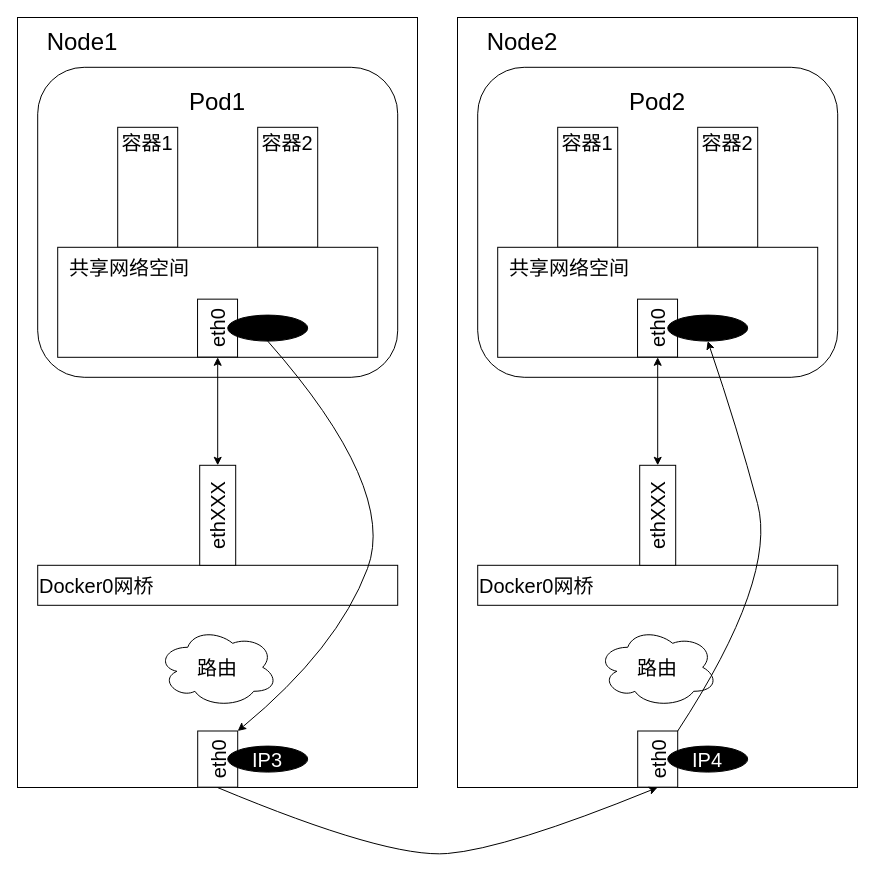
The diagram is 875 pixels wide and 876 high, and some of its shapes have lost their labels. Each missing label, with the box of its shape:
IP1: (227, 314, 308, 341)
IP2: (667, 314, 748, 341)
